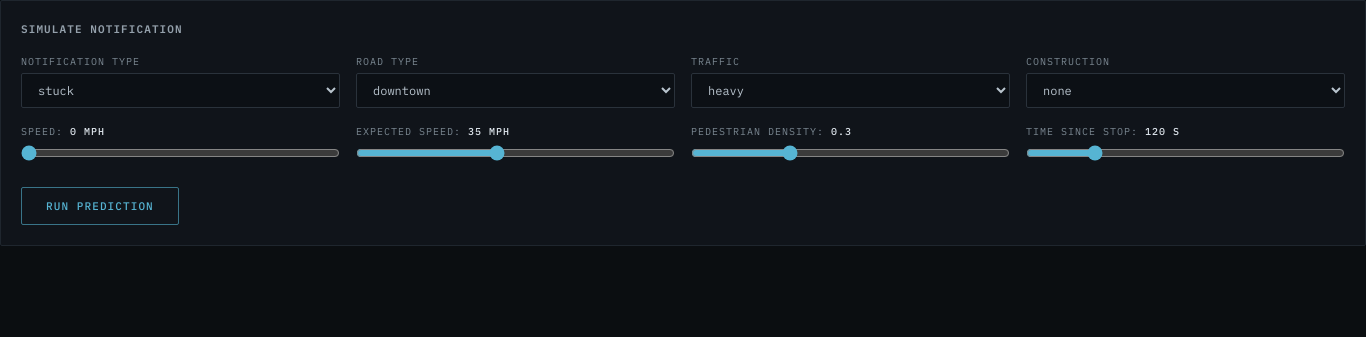
Test: SimulatePanel › shows error message when prediction fails
Click the button "Run Prediction": (100, 206) [21,186,179,225]
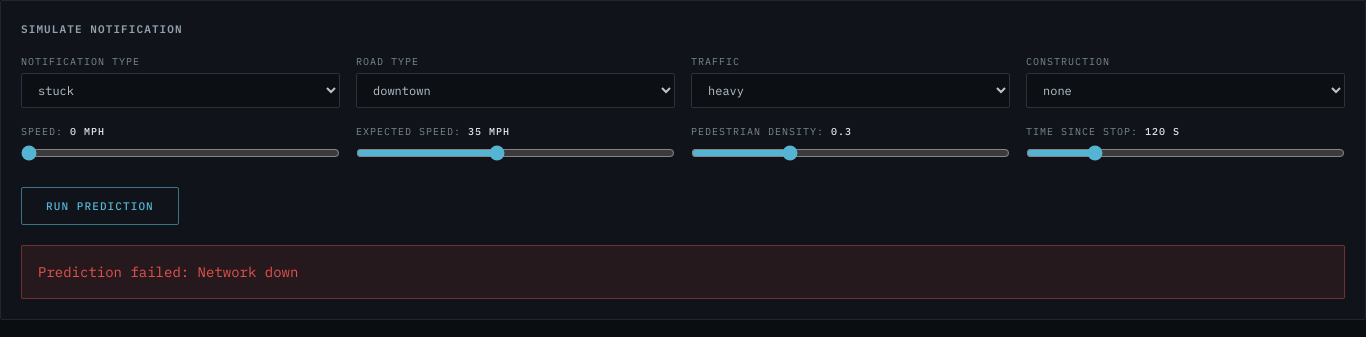
Now the text "Prediction failed: Network down" is shown, box [38,263,298,281]
